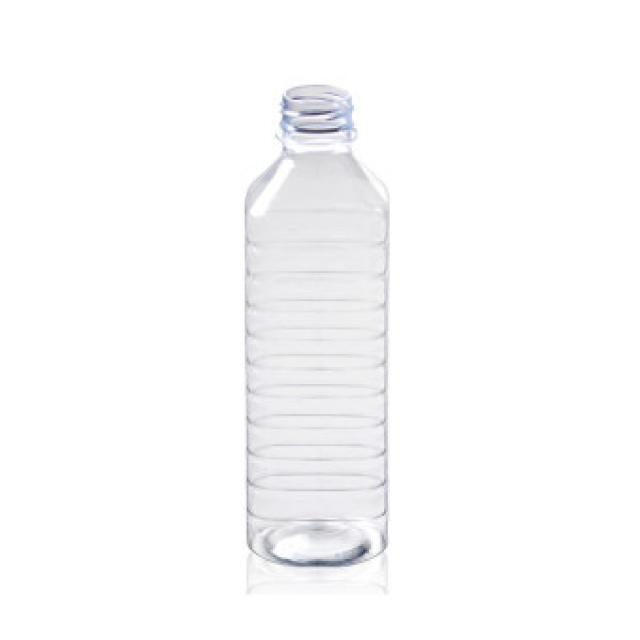plastic_bottle: (242, 84, 392, 568)
